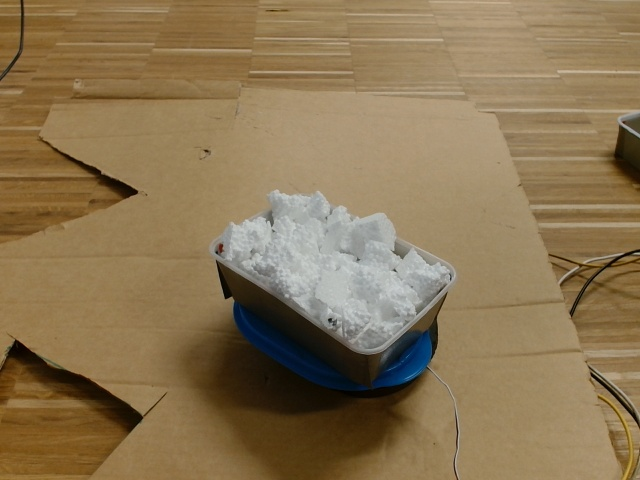Small_full: (210, 191, 457, 357)
